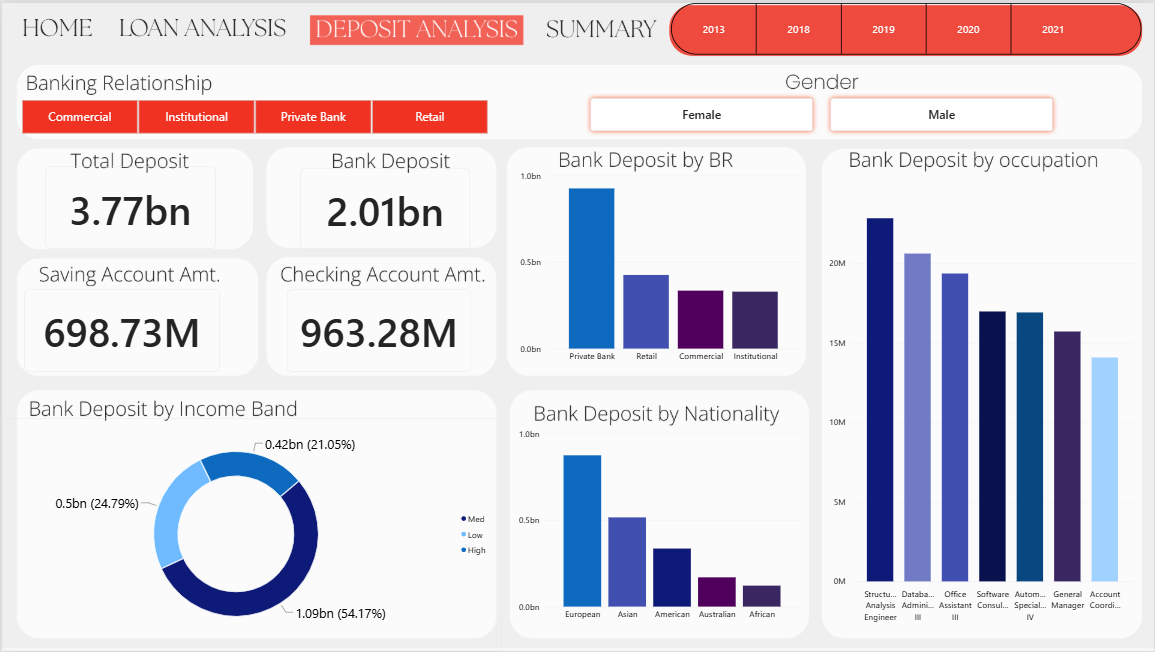

Layout of this report page (visuals, bound fields, positions):
{"tool":"powerbi","page":{"name":"Deposit Analysis","canvas":[1920,1080],"ordinal":2},"visuals":[{"type":"advancedSlicerVisual","fields":{"Values":["banking_case customer.GenderId"]},"box":[970.5,147.7,793.2,77.3],"z":0},{"type":"slicer","fields":{"Values":["banking_case customer.BRId"]},"box":[13.6,159.1,815.9,59.1],"z":1},{"type":"card","fields":{"Values":["Sum(banking_case customer.Bank Deposits)"]},"box":[497.7,275,282.5,137.5],"z":2},{"type":"card","fields":{"Values":["banking_case customer.total deposit"]},"box":[72.7,272.7,283.3,137.5],"z":4},{"type":"card","fields":{"Values":["Sum(banking_case customer.Saving Accounts)"]},"box":[38.6,477.3,325,136.4],"z":5},{"type":"card","fields":{"Values":["Sum(banking_case customer.Checking Accounts)"]},"box":[475,477.3,306.8,136.4],"z":6},{"type":"advancedSlicerVisual","fields":{"Values":["banking_case customer.Year of Joining"]},"box":[1115.9,0,786.4,86.4],"z":7},{"type":"donutChart","fields":{"Category":["banking_case customer.Income Band"],"Y":["Sum(banking_case customer.Bank Deposits)"]},"box":[0,692.5,832.5,387.5],"z":8},{"type":"clusteredColumnChart","fields":{"Category":["banking_case customer.Nationality"],"Y":["Sum(banking_case customer.Bank Deposits)"]},"box":[845,692.5,500,357.5],"z":9},{"type":"clusteredColumnChart","fields":{"Category":["banking_case customer.BRId"],"Y":["Sum(banking_case customer.Bank Deposits)"]},"box":[847.5,262.5,500,357.5],"z":10},{"type":"clusteredColumnChart","fields":{"Category":["banking_case customer.Occupation"],"Y":["Sum(banking_case customer.Bank Deposits)"]},"box":[1362,304,540,746],"z":11},{"type":"actionButton","box":[20,0,145.5,86.4],"z":12},{"type":"actionButton","box":[902.3,0,193.2,86.4],"z":13},{"type":"actionButton","box":[177.3,0,320.5,86.4],"z":14}]}

Visuals, with their boxes in screenshot pixels (x1, y1, x2, y2), scaled from the page's 1920x1080 canvas onto the 1155x652 screenshot:
advancedSlicerVisual - banking_case customer.GenderId: [left=584, top=89, right=1061, bottom=136]
slicer - banking_case customer.BRId: [left=8, top=96, right=499, bottom=132]
card - Sum(banking_case customer.Bank Deposits): [left=299, top=166, right=469, bottom=249]
card - banking_case customer.total deposit: [left=44, top=165, right=214, bottom=248]
card - Sum(banking_case customer.Saving Accounts): [left=23, top=288, right=219, bottom=370]
card - Sum(banking_case customer.Checking Accounts): [left=286, top=288, right=470, bottom=370]
advancedSlicerVisual - banking_case customer.Year of Joining: [left=671, top=0, right=1144, bottom=52]
donutChart - banking_case customer.Income Band x Sum(banking_case customer.Bank Deposits): [left=0, top=418, right=501, bottom=651]
clusteredColumnChart - banking_case customer.Nationality x Sum(banking_case customer.Bank Deposits): [left=508, top=418, right=809, bottom=634]
clusteredColumnChart - banking_case customer.BRId x Sum(banking_case customer.Bank Deposits): [left=510, top=158, right=811, bottom=374]
clusteredColumnChart - banking_case customer.Occupation x Sum(banking_case customer.Bank Deposits): [left=819, top=184, right=1144, bottom=634]
actionButton: [left=12, top=0, right=100, bottom=52]
actionButton: [left=543, top=0, right=659, bottom=52]
actionButton: [left=107, top=0, right=299, bottom=52]
